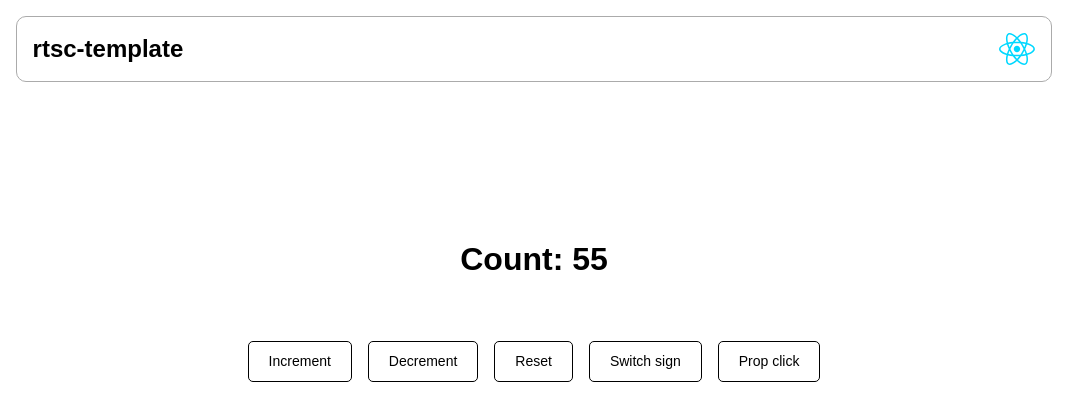
Test: Counter › Count should decrease by 1 if the decrement button is clicked
Expected: the text with test id "count" reads "55", [572, 241, 608, 277]
Click the button "Decrement".
click(423, 361)  # box [368, 341, 478, 382]
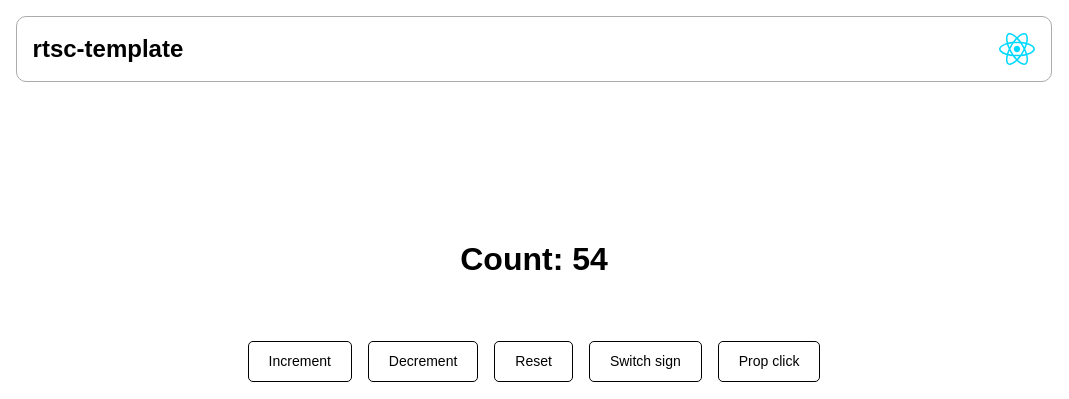
Expected: the text with test id "count" reads "54", [572, 241, 608, 277]
